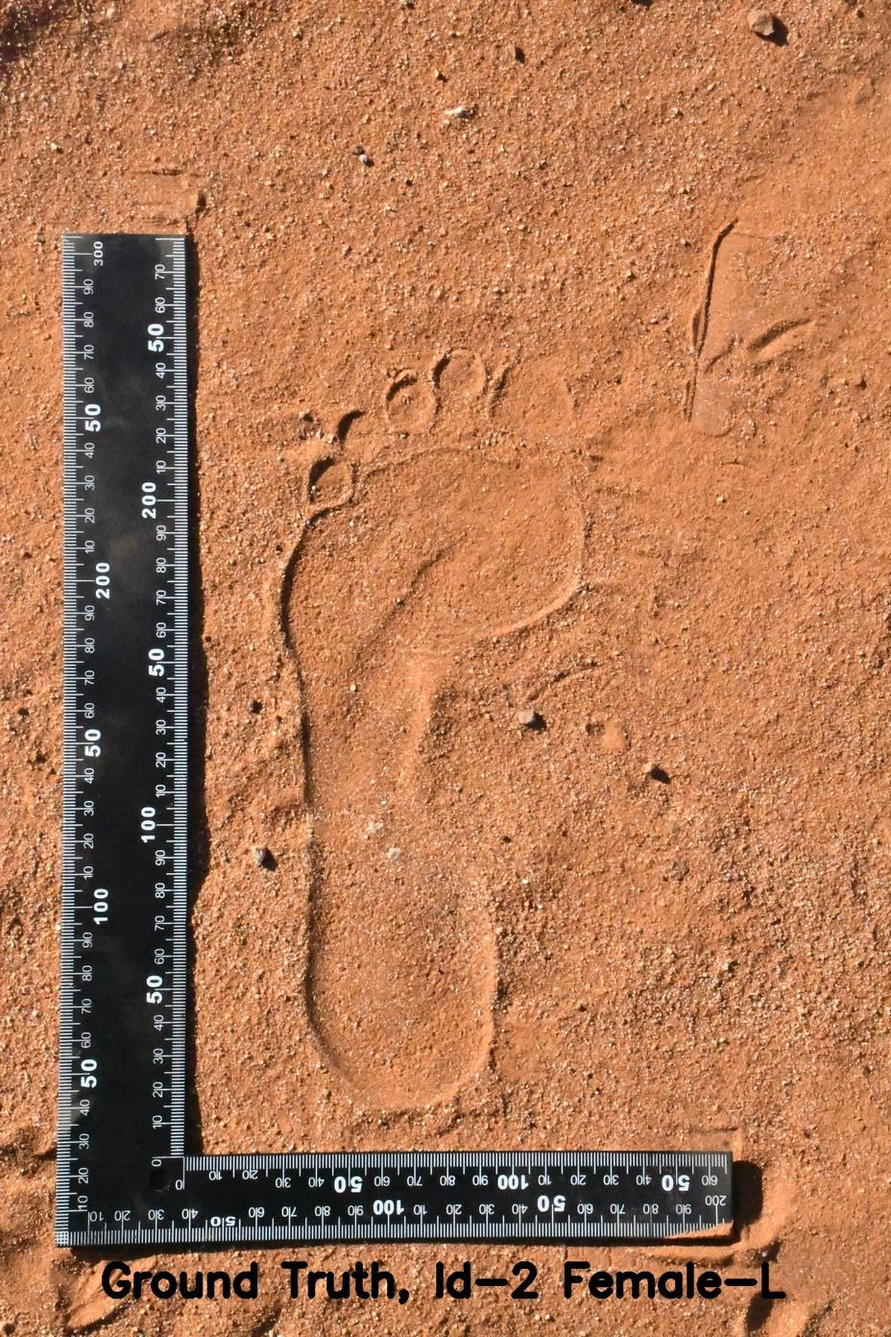human_footprint: (234, 304, 666, 1136)
